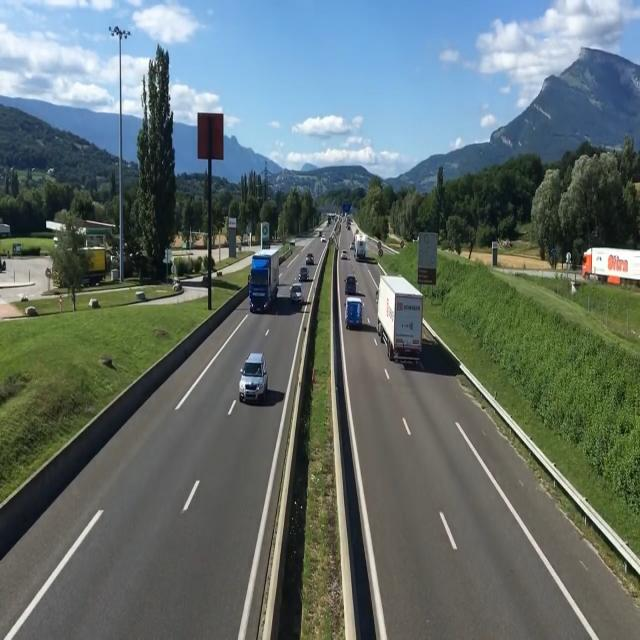car: (240, 348, 272, 408), (344, 298, 364, 333), (288, 282, 306, 308), (343, 272, 359, 297)
truck: (377, 271, 421, 377), (580, 245, 640, 284), (248, 250, 280, 318), (353, 224, 374, 266)
